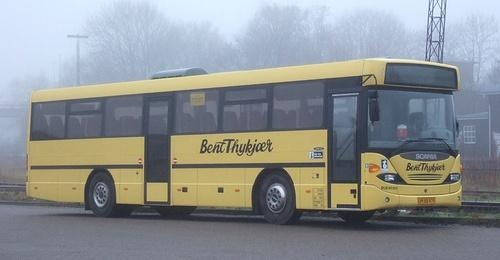bus: (26, 58, 461, 226)
